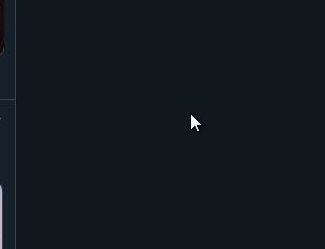cursor: (188, 112, 201, 132)
